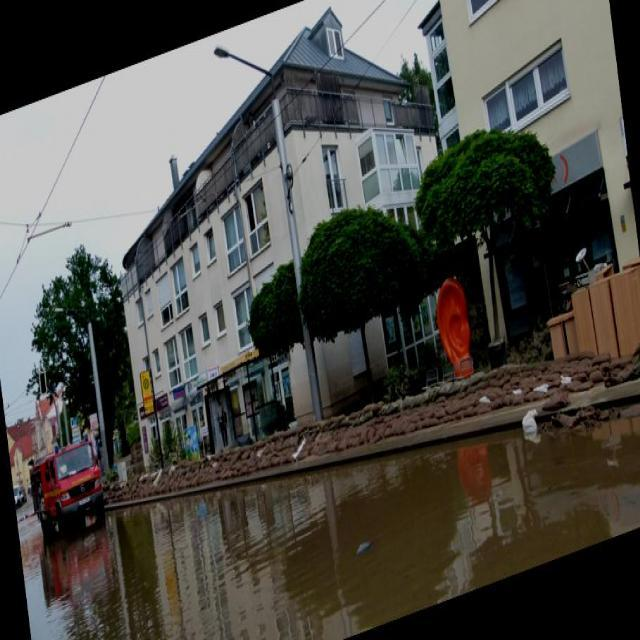flood: (19, 303, 639, 639)
